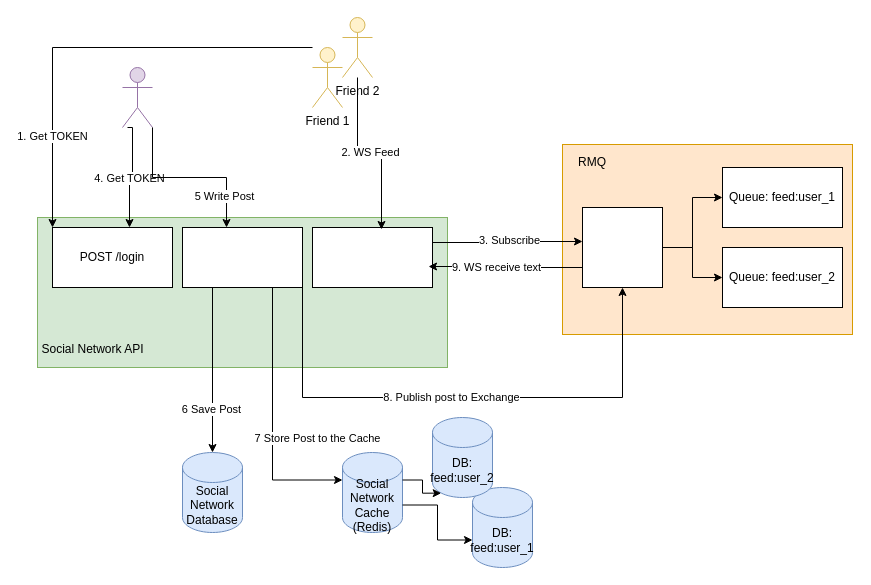
This 871x585 diagram has some shape labels left out. The centre of each missing label's shape, as x and y in pixels:
Author: point 137,97
Exchange: posts_feed Direct: point 622,247
POST /post/create: point 242,257
WS /post/feed/posted: point 372,257
